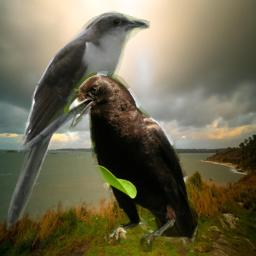Crow: (64, 71, 198, 252)
Cuckoo: (0, 10, 150, 234)
